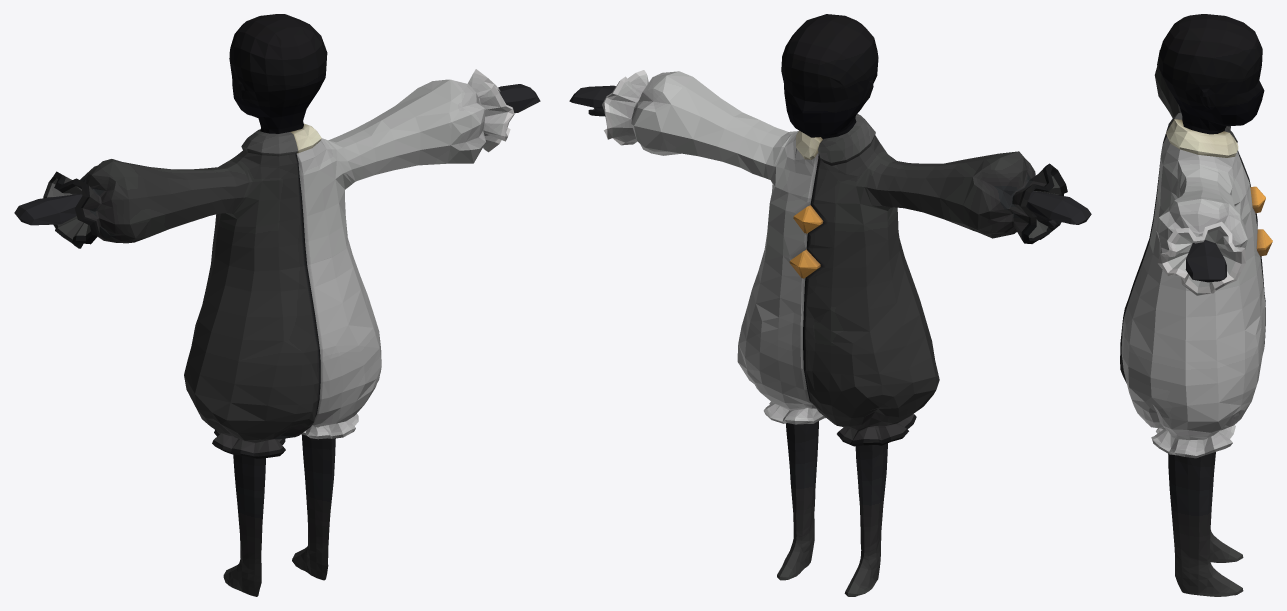
The model's file is NPC_AP30Romper.glb.
3 views of the same model, side by side, from view 1: azimuth 30°, elevation 25°; view 2: azimuth 150°, elevation 25°; view 3: azimuth 270°, elevation 25° (orthographic).
Visible parts, largest first — view 1: NPC_AP30Romper; view 2: NPC_AP30Romper; view 3: NPC_AP30Romper.
Boxes of the visible parts, x1,y1,x2,y2 form: NPC_AP30Romper: (14, 14, 540, 596); NPC_AP30Romper: (569, 14, 1091, 596); NPC_AP30Romper: (1120, 14, 1272, 596).
Bounding box in the file's own units: 13.92 × 14.43 × 3.58.
1 material, 1 textured.
